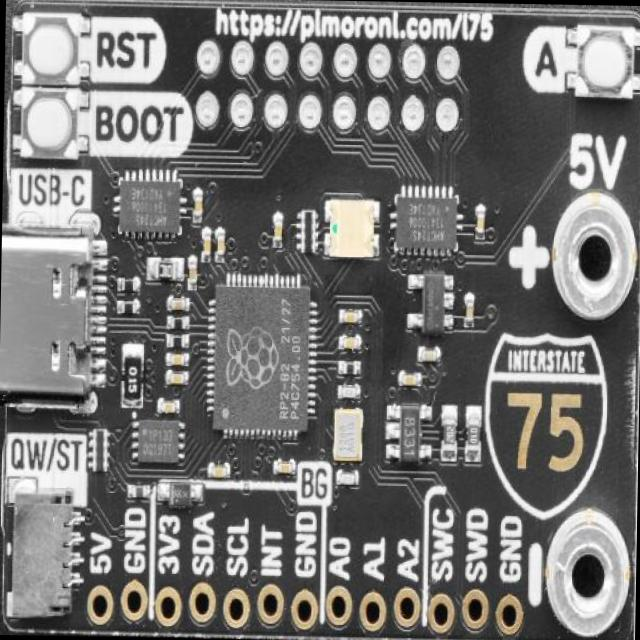IC: (207, 277, 316, 440), (394, 192, 458, 259), (118, 178, 185, 240), (136, 421, 182, 466), (394, 408, 426, 462), (418, 274, 448, 330)
LED: (17, 8, 88, 88), (18, 90, 82, 160), (574, 28, 632, 102), (329, 204, 378, 258)
capacitor: (276, 461, 298, 478), (418, 349, 441, 364), (338, 387, 360, 401), (215, 232, 225, 260), (464, 297, 474, 323), (274, 219, 284, 245), (342, 309, 359, 324), (402, 376, 421, 388), (210, 466, 229, 478), (170, 352, 185, 367), (195, 192, 202, 223), (202, 234, 210, 261), (344, 335, 356, 351), (161, 400, 173, 414), (478, 210, 484, 237), (170, 372, 184, 383)
connector: (0, 234, 105, 400), (10, 492, 84, 620)
diode: (168, 482, 195, 508)
resistor: (122, 352, 140, 398), (300, 208, 318, 252), (92, 428, 108, 472), (466, 420, 481, 452), (445, 416, 455, 459), (154, 262, 177, 278), (169, 333, 183, 351), (130, 484, 146, 498), (172, 318, 188, 329), (122, 282, 136, 294), (122, 301, 136, 313), (344, 362, 356, 374)
